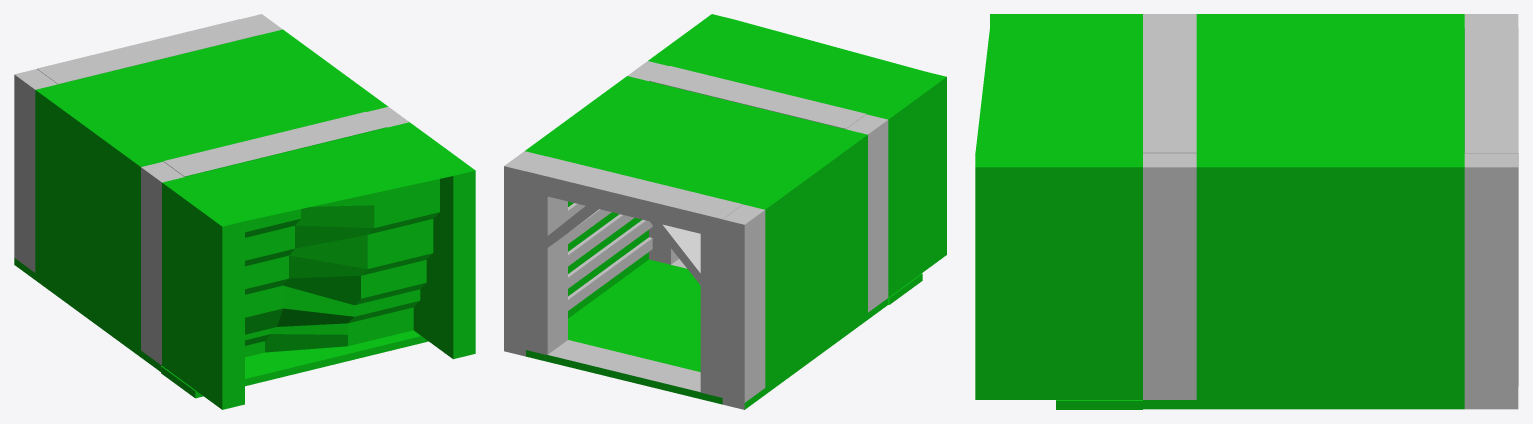
Rendered from Mineshaft Entrance.fbx.
3 renders of one model, left to right at view 1: azimuth 30°, elevation 25°; view 2: azimuth 150°, elevation 25°; view 3: azimuth 270°, elevation 25°, orthographic. The views are drawn at different scales.
Parts seen in each view (by area): view 1: Plane; view 2: Plane; view 3: Plane.
Part boxes in pixels (x1,y1,x2,y2): Plane: [14, 14, 475, 409]; Plane: [504, 14, 946, 409]; Plane: [975, 14, 1518, 409].
Size of the model in its own units: 342 by 250 by 506.
